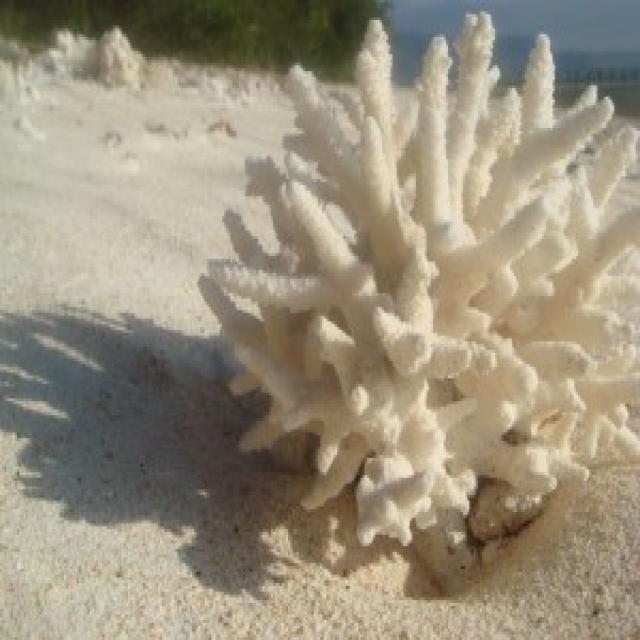Bleached Coral: (194, 11, 640, 569)
